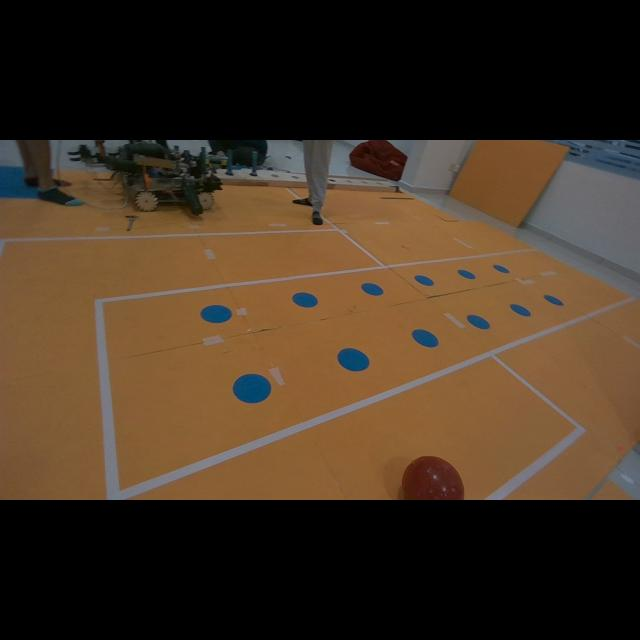R: (401, 458, 464, 500)
